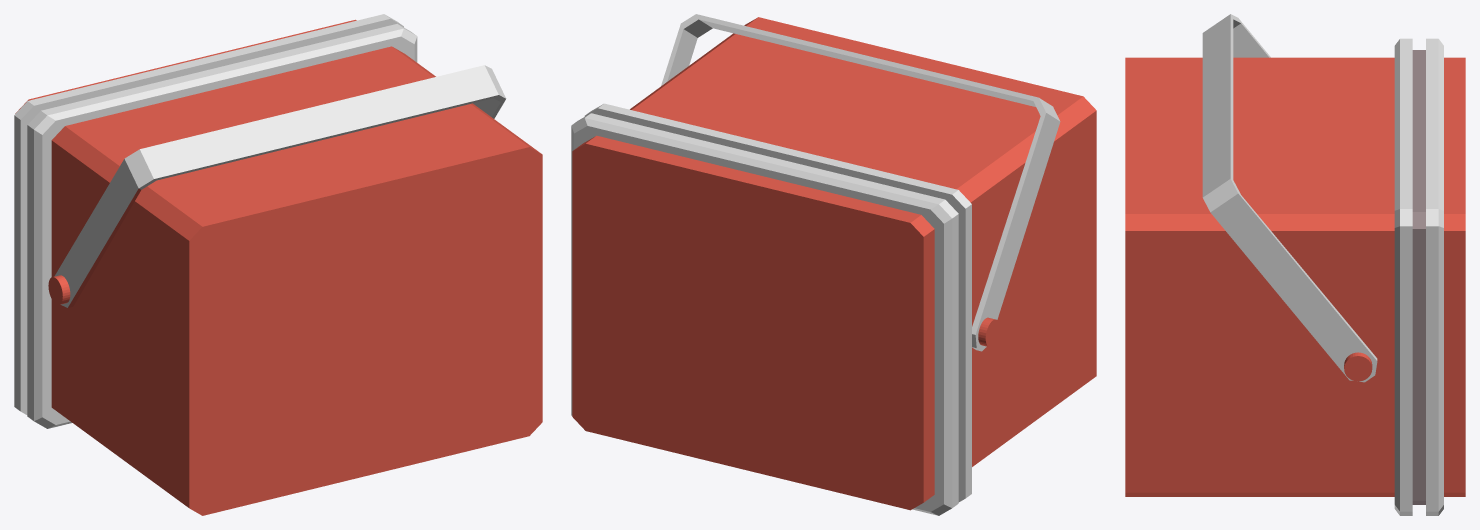
Rendered from Cajaa.fbx.
3 views of the same model, side by side, from view 1: azimuth 30°, elevation 25°; view 2: azimuth 150°, elevation 25°; view 3: azimuth 270°, elevation 25° (orthographic). The views are drawn at different scales.
Visible parts, largest first — view 1: Caja; view 2: Caja; view 3: Caja.
Part boxes in pixels (x1,y1,x2,y2): Caja: (14,14,542,515); Caja: (571,14,1096,515); Caja: (1125,14,1465,515).
Bounding box in the file's own units: 331 × 282 × 260.
